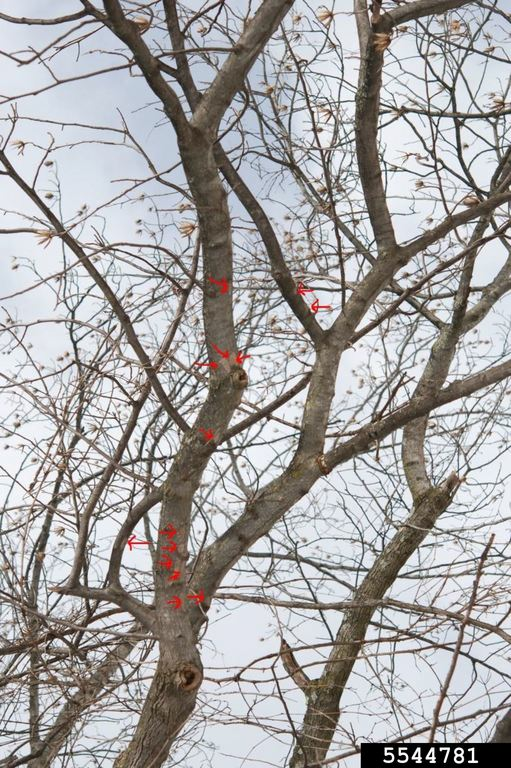egg masses: (219, 359, 230, 370), (229, 354, 237, 364), (379, 558, 387, 566), (213, 429, 218, 440), (305, 402, 311, 409), (228, 279, 231, 293), (178, 543, 184, 550), (163, 611, 167, 619), (292, 286, 295, 293)
